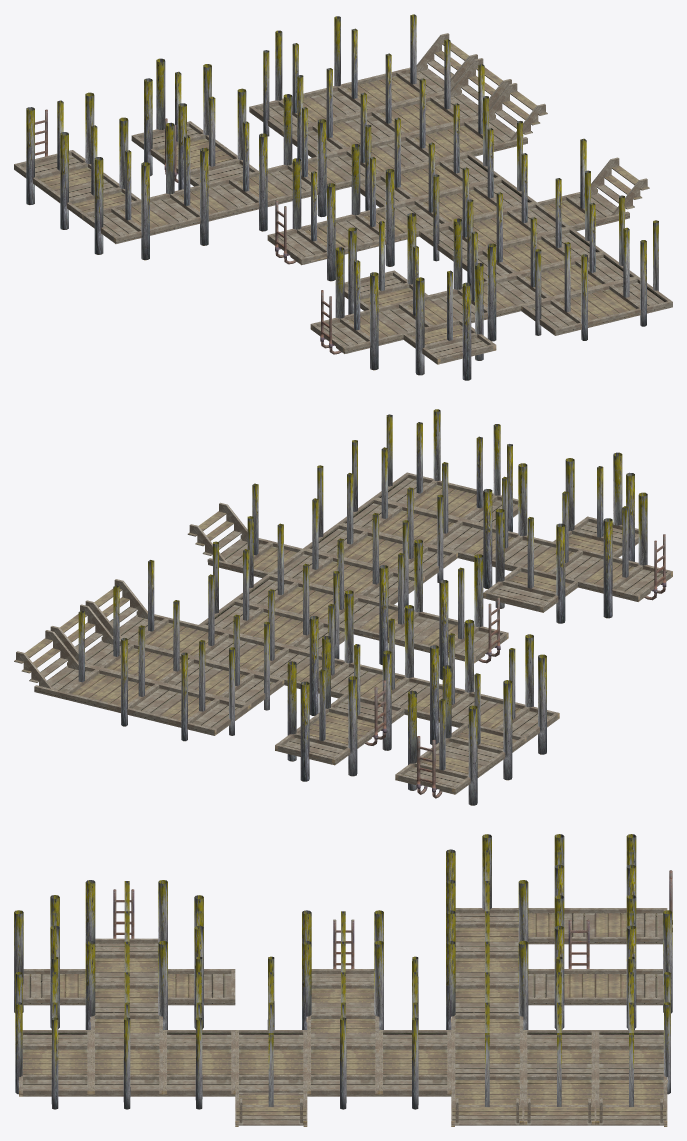
File: rSambasi.obj
3 renders of one model, top to bottom at view 1: azimuth 30°, elevation 25°; view 2: azimuth 150°, elevation 25°; view 3: azimuth 270°, elevation 25°, orthographic. The views are drawn at different scales.
Visible parts, largest first — view 1: copy.009, copy.007, dock.020, dock.024, copy.001, copy.003, dock.007, dock.017, copy.000, dock.009, dock.012, dock.008 (+25 smaller); view 2: copy.000, copy.007, copy.003, copy.008, dock.002, dock.020, copy.009, dock.025, dock.004, copy.002, dock.024, copy.006 (+25 smaller); view 3: copy.007, copy.000, dock.012, copy.006, dock.025, dock.017, copy.009, dock.009, dock.020, copy.008, copy.003, copy.014 (+25 smaller).
Part boxes in pixels (<box>): copy.009: <box>403,263,496,380</box>; copy.007: <box>310,247,403,370</box>; dock.020: <box>267,158,360,281</box>; dock.024: <box>82,150,174,260</box>; copy.001: <box>150,122,233,245</box>; copy.003: <box>14,92,106,205</box>; dock.007: <box>521,242,613,340</box>; dock.017: <box>335,144,419,266</box>; copy.000: <box>131,58,223,176</box>; dock.009: <box>580,220,672,326</box>; dock.012: <box>267,94,351,217</box>; dock.008: <box>435,64,547,156</box>; copy.000: <box>275,661,369,781</box>; copy.007: <box>578,492,672,618</box>; copy.003: <box>395,690,489,805</box>; copy.008: <box>483,508,577,623</box>; dock.002: <box>14,610,128,706</box>; dock.020: <box>414,554,508,679</box>; copy.009: <box>553,452,638,561</box>; dock.025: <box>310,636,404,750</box>; dock.004: <box>154,640,249,741</box>; copy.002: <box>430,665,524,780</box>; dock.024: <box>465,634,559,754</box>; copy.006: <box>458,463,552,588</box>; copy.007: <box>85,880,167,972</box>; copy.000: <box>595,895,672,1028</box>; dock.012: <box>446,940,528,1033</box>; copy.006: <box>85,940,167,1033</box>; dock.025: <box>528,895,595,1028</box>; dock.017: <box>302,940,383,1033</box>; copy.009: <box>14,895,85,1028</box>; dock.009: <box>15,1002,90,1109</box>; dock.020: <box>302,910,383,1002</box>; copy.008: <box>168,895,235,1028</box>; copy.003: <box>595,834,672,944</box>; copy.014: <box>163,1002,235,1109</box>.
Bounding box in the file's own units: 111 × 23.02 × 137.
Materials: 1 (1 with a texture image).
